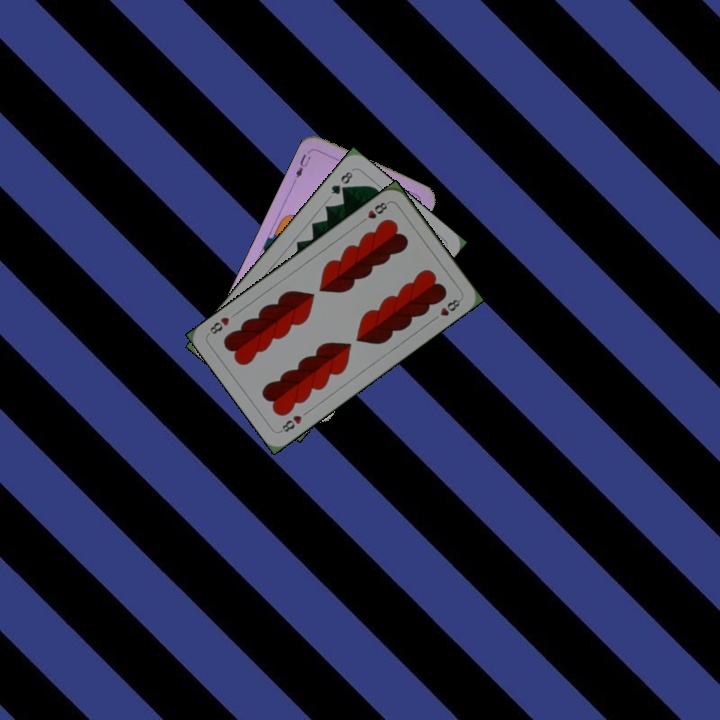EU: (292, 146, 314, 180)
G8: (327, 167, 355, 197)
H8: (356, 198, 392, 226), (276, 411, 304, 435)
